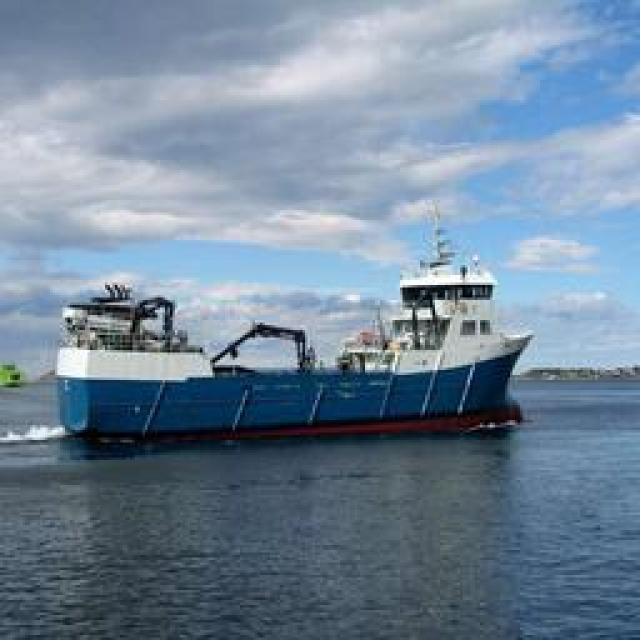ship2: (56, 225, 535, 447)
